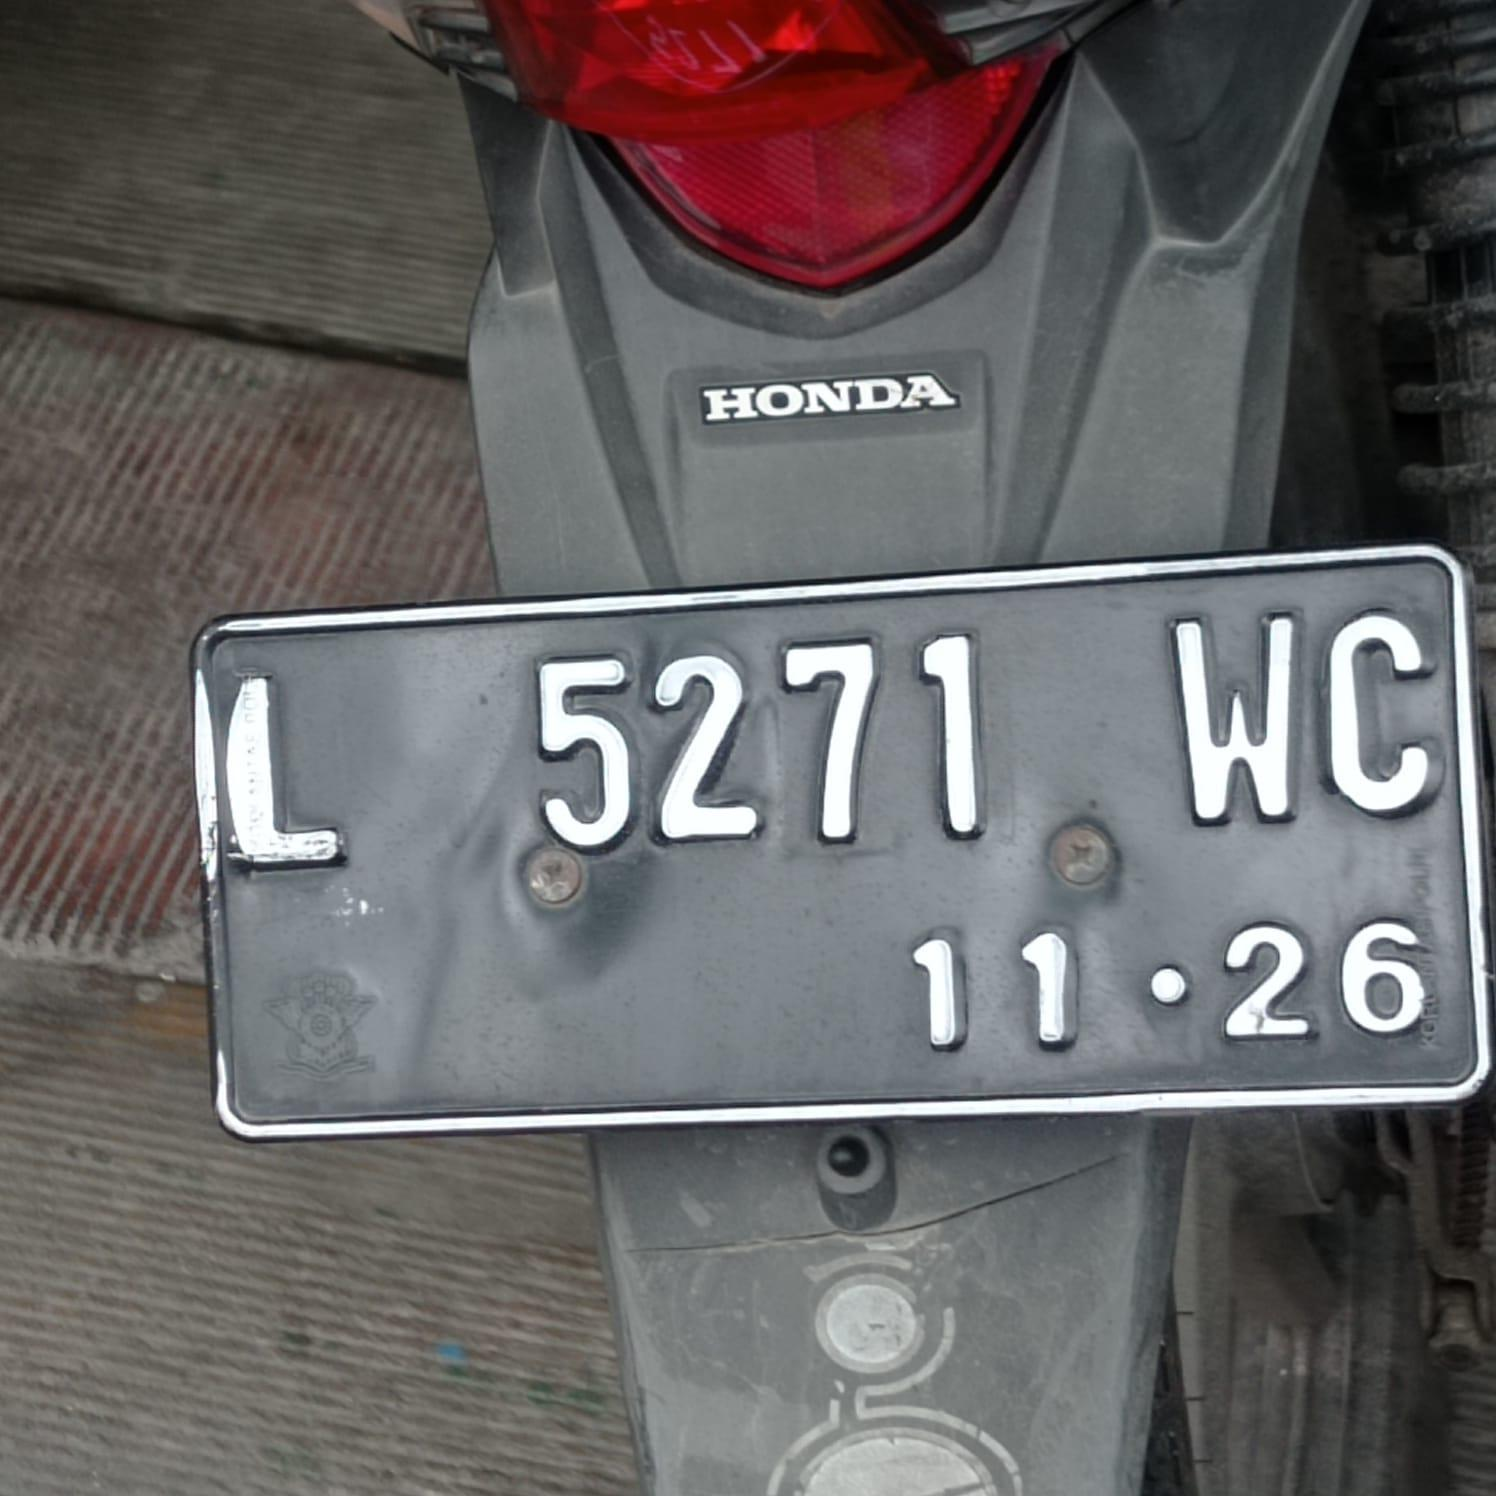plat: (196, 547, 1493, 1137)
